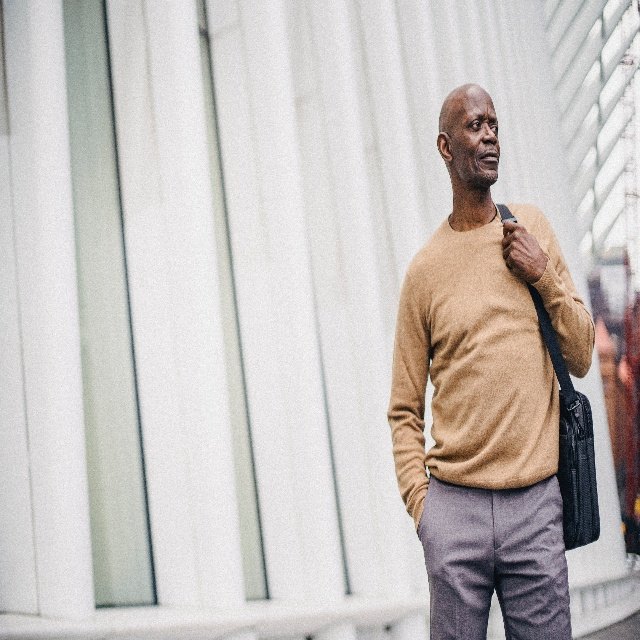Sin_guantes: (501, 215, 544, 286)
